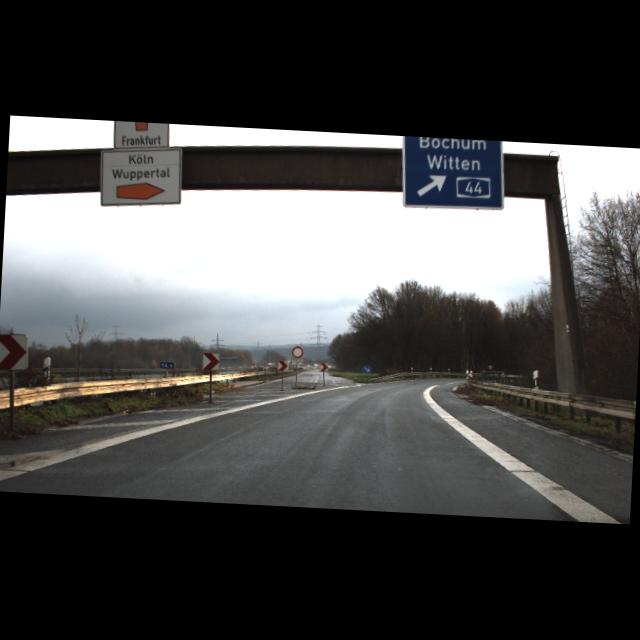mandatory: (362, 364, 373, 375)
prohibitory: (291, 346, 304, 358)
